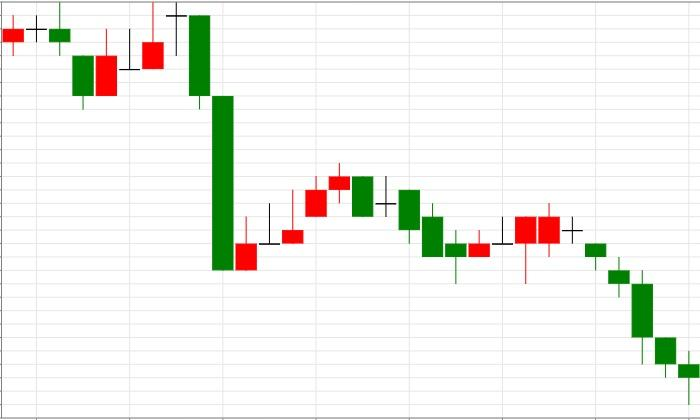evening_star_fall: (71, 2, 211, 110)
